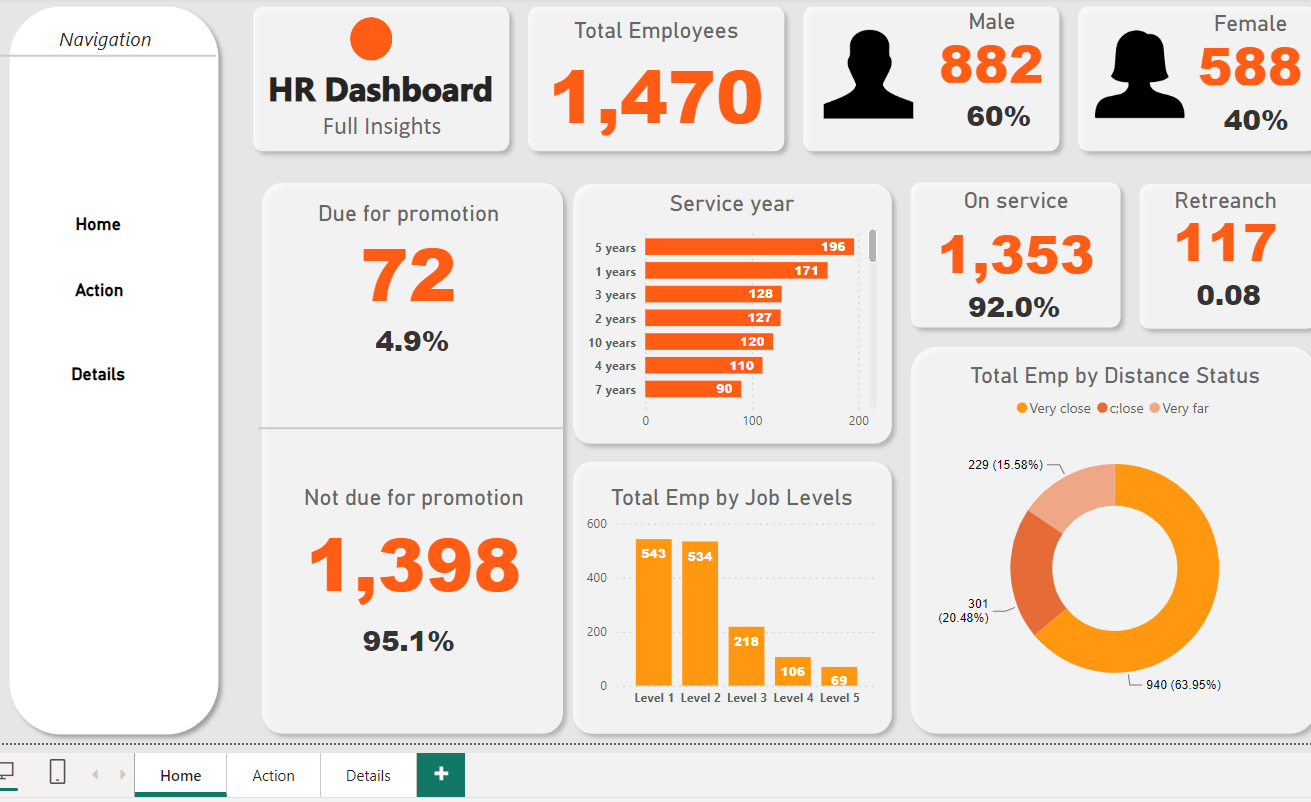

This screenshot's page, from the dashboard's own definition file:
{"tool":"powerbi","page":{"name":"Home","canvas":[1280,720],"ordinal":0},"visuals":[{"type":"shape","box":[0,0,219.3,720.5],"z":0},{"type":"shape","box":[500.5,0,265.3,158],"z":1000},{"type":"shape","box":[765.8,0,265.3,158],"z":2000},{"type":"shape","box":[1031.2,0,248.4,158],"z":3000},{"type":"shape","box":[243.6,170.1,308.7,549.9],"z":4000},{"type":"shape","box":[543.9,171.3,325.6,268.9],"z":5000},{"type":"shape","box":[543.9,439,325.6,281],"z":6000},{"type":"shape","box":[869.5,170.1,220.7,158],"z":7000},{"type":"shape","box":[1090.3,171.3,189.3,158],"z":8000},{"type":"shape","box":[869.5,328,410.1,392],"z":9000},{"type":"shape","box":[235.2,0,265.3,158],"z":10000},{"type":"textbox","box":[291.9,103.7,153.2,42.2],"z":11000},{"type":"textbox","box":[249.6,61.5,235.2,53.1],"z":12000},{"type":"shape","box":[337.7,19.3,41,42.2],"z":13000},{"type":"card","title":"Total Employees","fields":{"Values":["All Measures.Total Emp"]},"box":[515,19.3,236.4,119.4],"z":14000},{"type":"card","title":"Male","fields":{"Values":["All Measures.Male"]},"box":[899.3,10.3,116.9,77.4],"z":15000},{"type":"card","title":"Male","fields":{"Values":["All Measures.% Male"]},"box":[910.6,88,106.1,55.5],"z":16000},{"type":"card","title":"Female","fields":{"Values":["All Measures.Female"]},"box":[1148,13.6,116.9,77.4],"z":17000},{"type":"card","title":"Male","fields":{"Values":["All Measures.% Female"]},"box":[1159.2,91.3,106.1,55.5],"z":18000},{"type":"image","box":[789.9,22.9,96.5,102.5],"z":19000},{"type":"image","box":[1051.7,24.1,96.5,101.3],"z":20000},{"type":"card","title":"Due for promotion","fields":{"Values":["All Measures.Due for Promotion"]},"box":[291.9,196.6,205,108.5],"z":21000},{"type":"card","title":"Male","fields":{"Values":["All Measures.% Due for promotion"]},"box":[344.9,307.5,106.1,50.7],"z":22000},{"type":"card","title":"Not due for promotion","fields":{"Values":["All Measures.Not due"]},"box":[283.4,470.4,231.6,120.6],"z":23000},{"type":"card","title":"Male","fields":{"Values":["All Measures.% Not due"]},"box":[335.3,594.6,118.2,55.5],"z":24000},{"type":"shape","box":[249.6,393.2,294.3,45.8],"z":25000},{"type":"barChart","title":"Service year","fields":{"Category":["HR Analytics Data.Service year"],"Y":["All Measures.Total Emp"]},"box":[560.8,186.9,290.7,240],"z":26000},{"type":"columnChart","fields":{"Y":["All Measures.Total Emp"],"Category":["HR Analytics Data.Job Levels"]},"box":[560.8,470.4,290.7,224.3],"z":27000},{"type":"card","title":"On service","fields":{"Values":["All Measures.On Service"]},"box":[886.4,183.3,188.1,100.1],"z":28000},{"type":"card","title":"Male","fields":{"Values":["All Measures.% On Service"]},"box":[917.8,283.4,121.8,32.6],"z":29000},{"type":"card","title":"Retreanch","fields":{"Values":["All Measures.Will be retreanched"]},"box":[1108.3,183.3,148.3,77.2],"z":30000},{"type":"card","title":"Male","fields":{"Values":["All Measures.% Will be retreanched"]},"box":[1133.2,260.9,106.1,55.5],"z":31000},{"type":"donutChart","fields":{"Category":["HR Analytics Data.Distance Status"],"Y":["All Measures.Total Emp"]},"box":[886.4,352.2,378.7,344.9],"z":32000},{"type":"textbox","box":[51.9,22.9,115.8,38.6],"z":33000},{"type":"shape","box":[0,33.8,208.6,45.8],"z":34000},{"type":"actionButton","title":"Action","box":[65.3,272.3,102.4,53],"z":35000},{"type":"actionButton","title":"Details","box":[65.3,353,102.4,62.7],"z":36000},{"type":"actionButton","title":"Home","box":[65.9,196.4,101.2,39.8],"z":37000},{"type":"shape","box":[45.6,196.7,20,20],"z":38000},{"type":"shape","box":[45.8,279.5,20.5,19.3],"z":39000},{"type":"shape","box":[45.8,353,20.5,19.3],"z":40000}]}

Visuals, with their boxes on the page's 1280x720 design canvas (x1, y1, x2, y2). These are canvas units, not pixel positions in the 1311x802 screenshot, which may show the page scaled, cropped or inside an application window:
shape: left=0, top=0, right=219, bottom=720
shape: left=500, top=0, right=766, bottom=158
shape: left=766, top=0, right=1031, bottom=158
shape: left=1031, top=0, right=1280, bottom=158
shape: left=244, top=170, right=552, bottom=720
shape: left=544, top=171, right=870, bottom=440
shape: left=544, top=439, right=870, bottom=720
shape: left=870, top=170, right=1090, bottom=328
shape: left=1090, top=171, right=1280, bottom=329
shape: left=870, top=328, right=1280, bottom=720
shape: left=235, top=0, right=500, bottom=158
textbox: left=292, top=104, right=445, bottom=146
textbox: left=250, top=62, right=485, bottom=115
shape: left=338, top=19, right=379, bottom=62
"Total Employees" card: left=515, top=19, right=751, bottom=139
"Male" card: left=899, top=10, right=1016, bottom=88
"Male" card: left=911, top=88, right=1017, bottom=144
"Female" card: left=1148, top=14, right=1265, bottom=91
"Male" card: left=1159, top=91, right=1265, bottom=147
image: left=790, top=23, right=886, bottom=125
image: left=1052, top=24, right=1148, bottom=125
"Due for promotion" card: left=292, top=197, right=497, bottom=305
"Male" card: left=345, top=308, right=451, bottom=358
"Not due for promotion" card: left=283, top=470, right=515, bottom=591
"Male" card: left=335, top=595, right=454, bottom=650
shape: left=250, top=393, right=544, bottom=439
"Service year" barChart: left=561, top=187, right=852, bottom=427
columnChart - All Measures.Total Emp x HR Analytics Data.Job Levels: left=561, top=470, right=852, bottom=695
"On service" card: left=886, top=183, right=1074, bottom=283
"Male" card: left=918, top=283, right=1040, bottom=316
"Retreanch" card: left=1108, top=183, right=1257, bottom=260
"Male" card: left=1133, top=261, right=1239, bottom=316
donutChart - HR Analytics Data.Distance Status x All Measures.Total Emp: left=886, top=352, right=1265, bottom=697
textbox: left=52, top=23, right=168, bottom=62
shape: left=0, top=34, right=209, bottom=80
"Action" actionButton: left=65, top=272, right=168, bottom=325
"Details" actionButton: left=65, top=353, right=168, bottom=416
"Home" actionButton: left=66, top=196, right=167, bottom=236
shape: left=46, top=197, right=66, bottom=217
shape: left=46, top=280, right=66, bottom=299
shape: left=46, top=353, right=66, bottom=372
